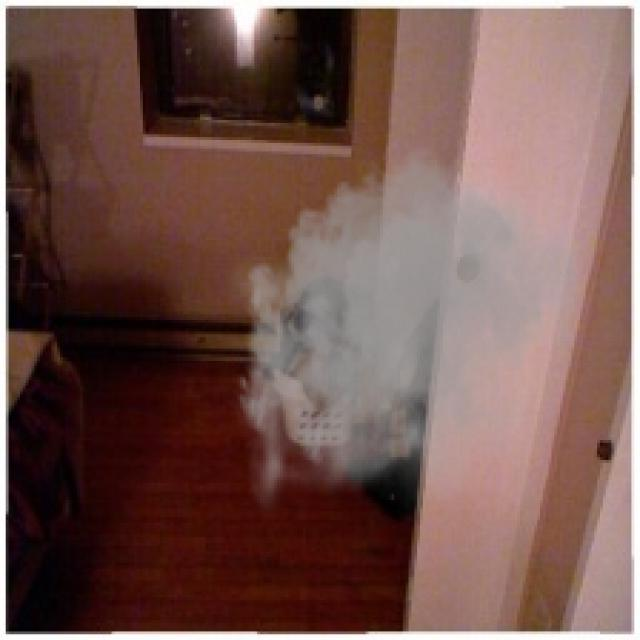smoke: (220, 134, 591, 523)
